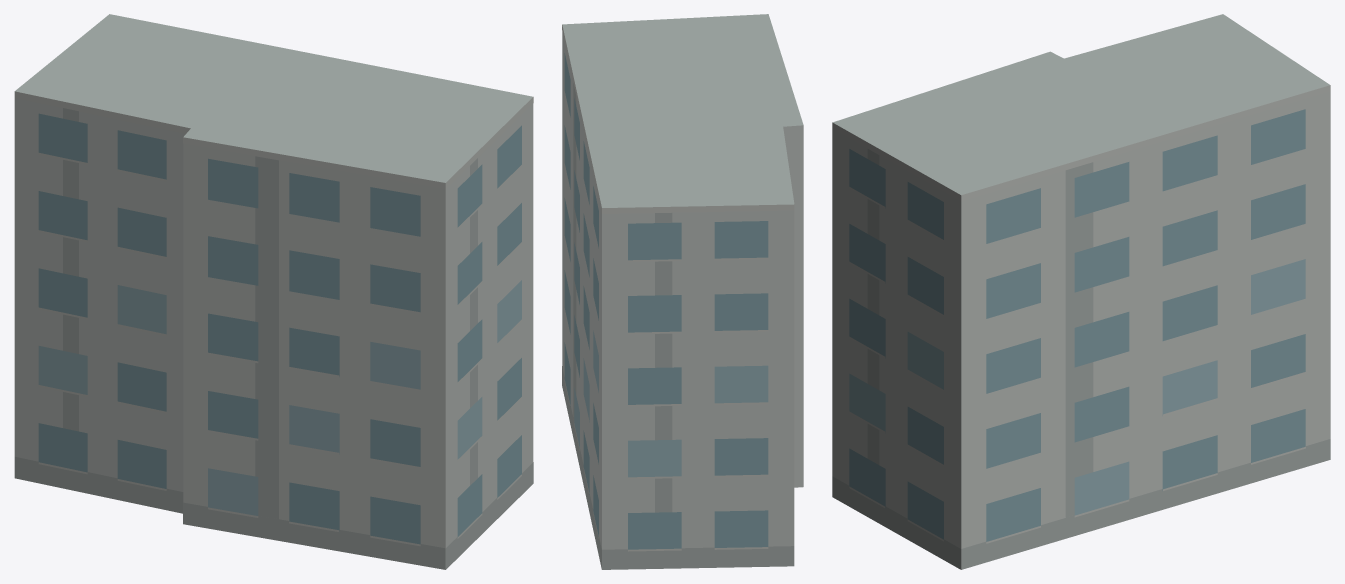
The model's file is survey-upis-33013793.glb.
3 views of the same model, side by side, from view 1: azimuth 30°, elevation 25°; view 2: azimuth 150°, elevation 25°; view 3: azimuth 270°, elevation 25° (orthographic). The views are drawn at different scales.
Visible parts, largest first — view 1: survey-upis-33013793.tmp; view 2: survey-upis-33013793.tmp; view 3: survey-upis-33013793.tmp.
Part boxes in pixels (bbox=[...]): survey-upis-33013793.tmp: bbox=[14, 14, 533, 569]; survey-upis-33013793.tmp: bbox=[562, 14, 803, 569]; survey-upis-33013793.tmp: bbox=[832, 14, 1330, 569].
Size of the model in its own units: 15.16 by 14.6 by 17.6.
